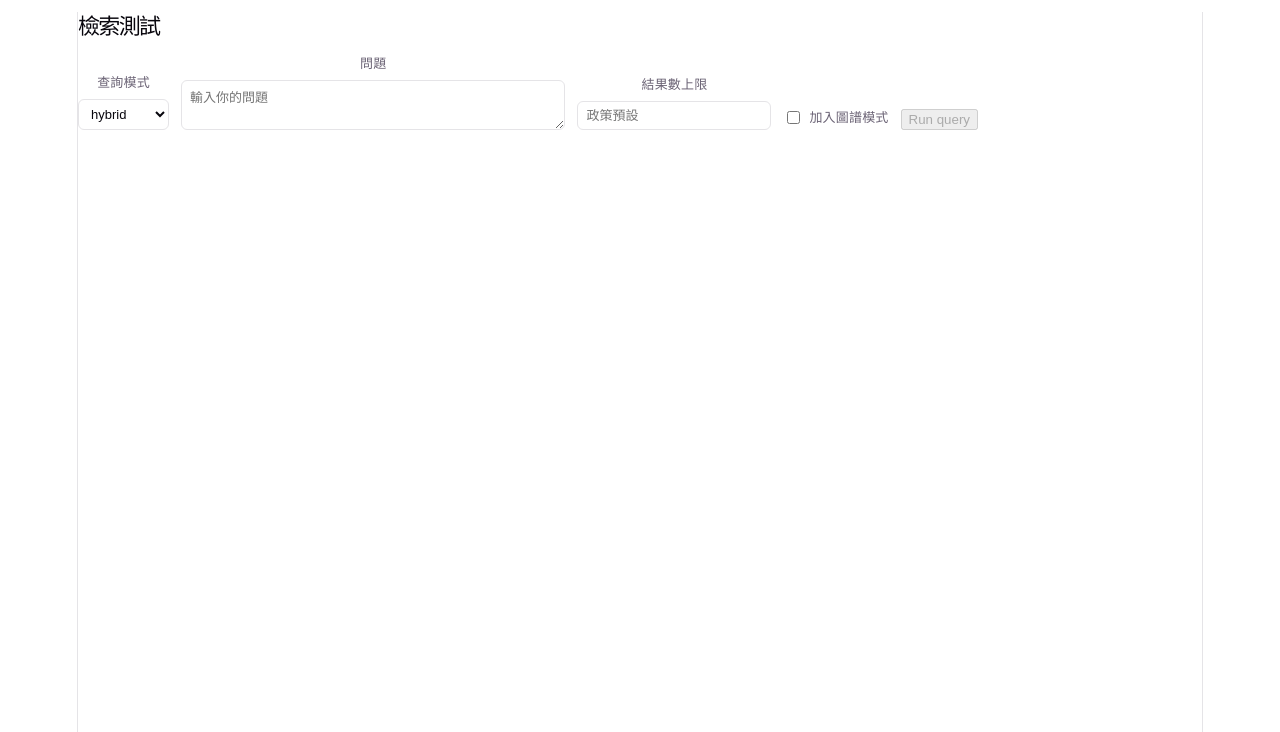
Scenario: Playground › fails loud when the query errors (e.g. model unconfigured)
Type "hi" into the text box labelled "問題". click: (373, 105)
box: [181, 80, 565, 130]
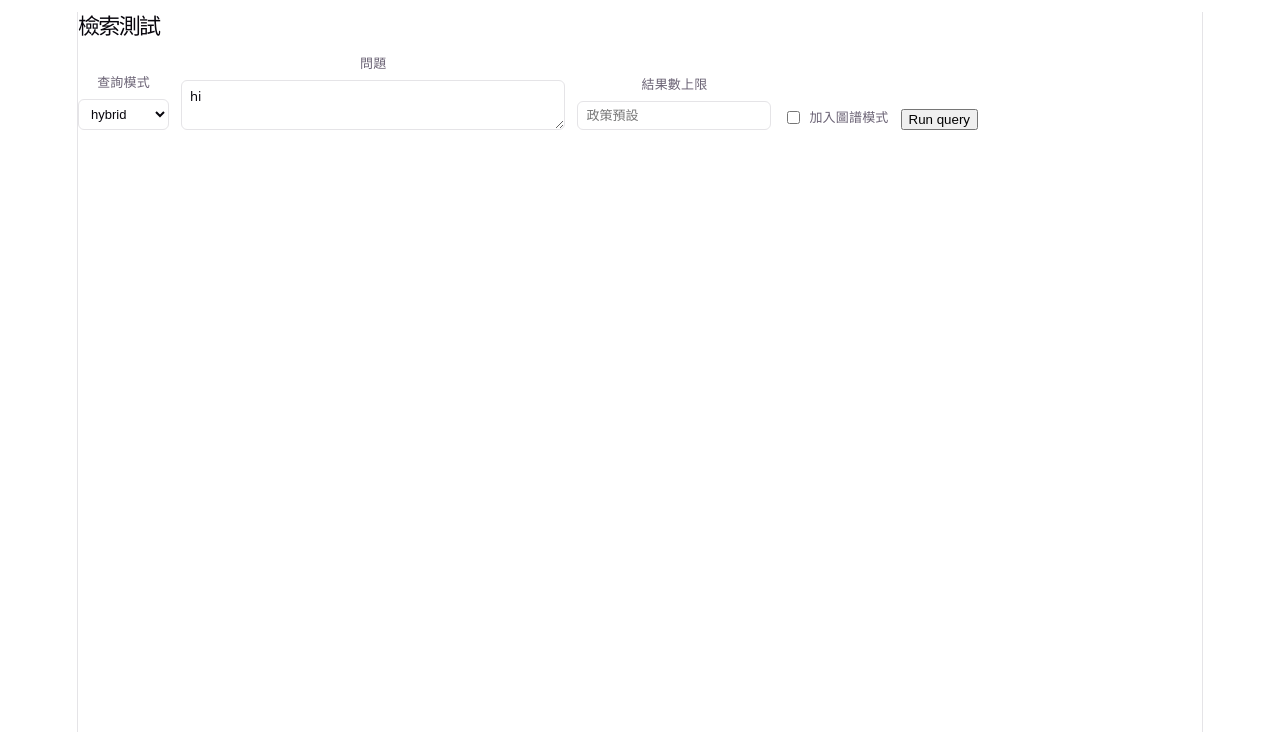
Click the button "Run query". click: (939, 120)
box: [900, 109, 978, 130]
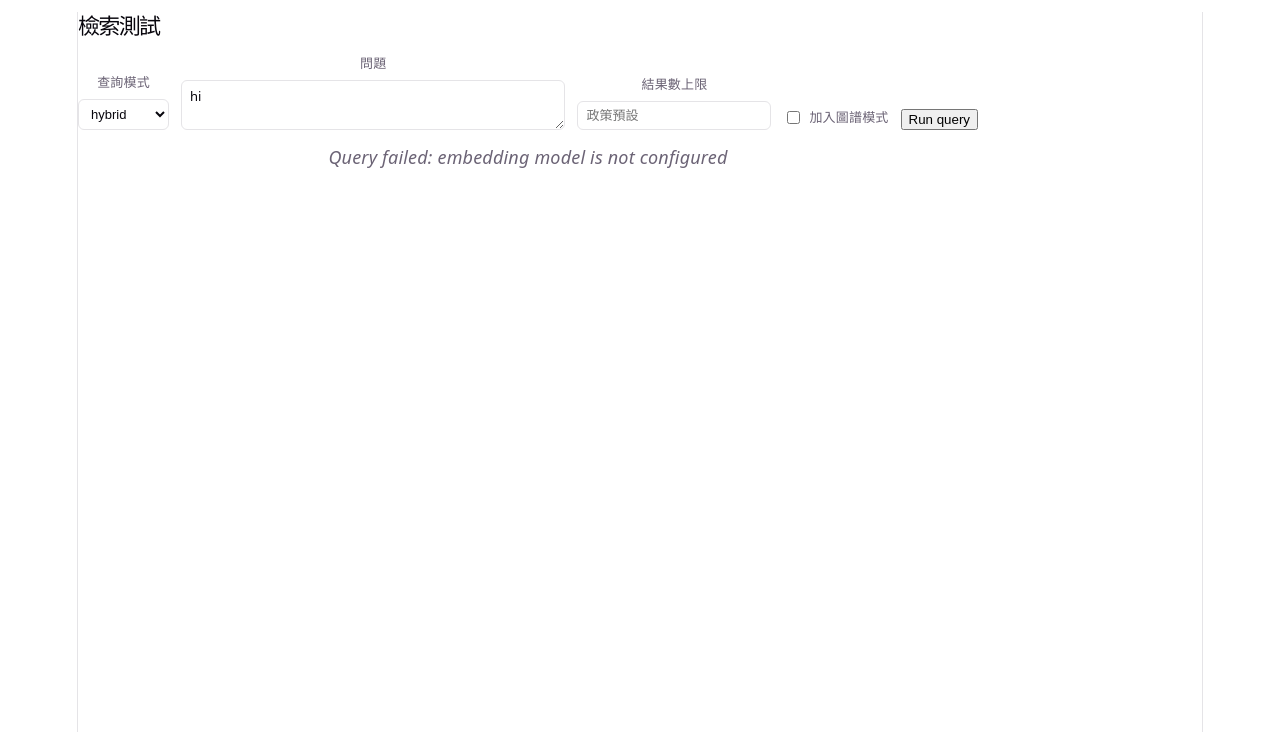
Check: the text "Query failed: embedding model is not configured" is shown, box [328, 145, 728, 169]
